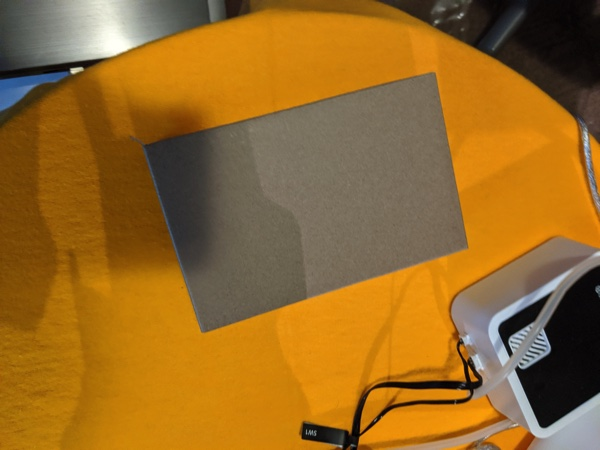cardboard: (136, 69, 484, 342)
